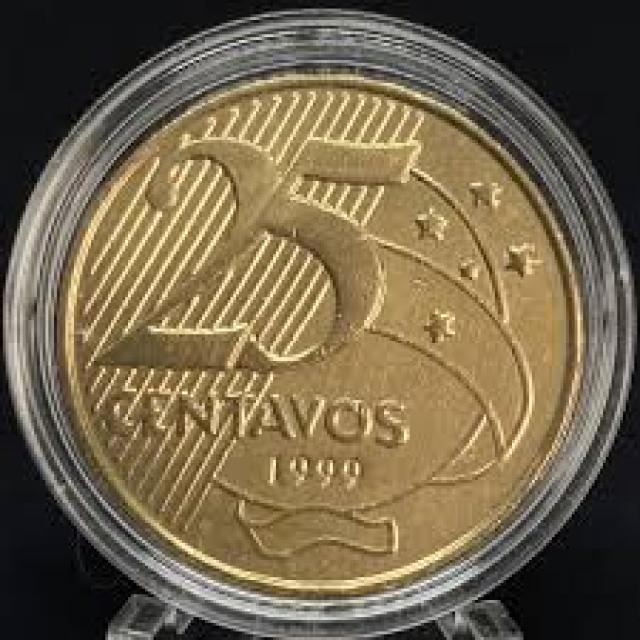25 cent: (42, 63, 587, 596)
